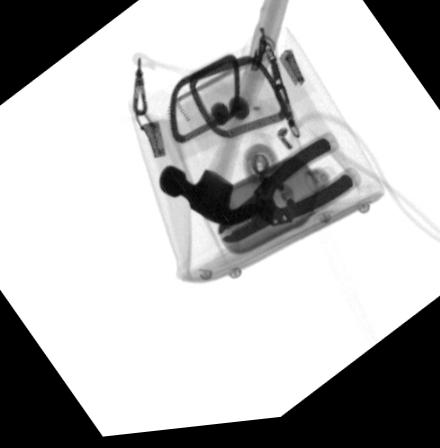Hammer: (157, 0, 290, 231)
Pliers: (218, 137, 360, 249)
